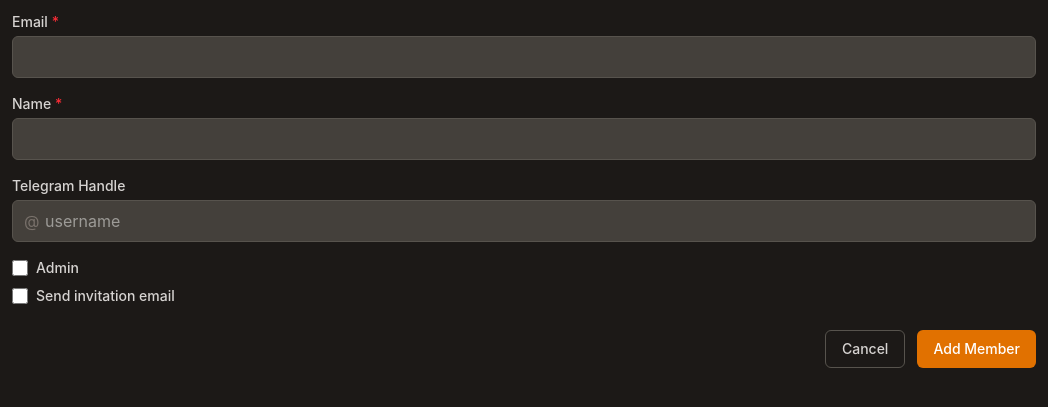
Test case: MemberForm › create mode › validates email format
In the field labelled "Email *": (524, 57) [12,36,1036,78], type "not-an-email"
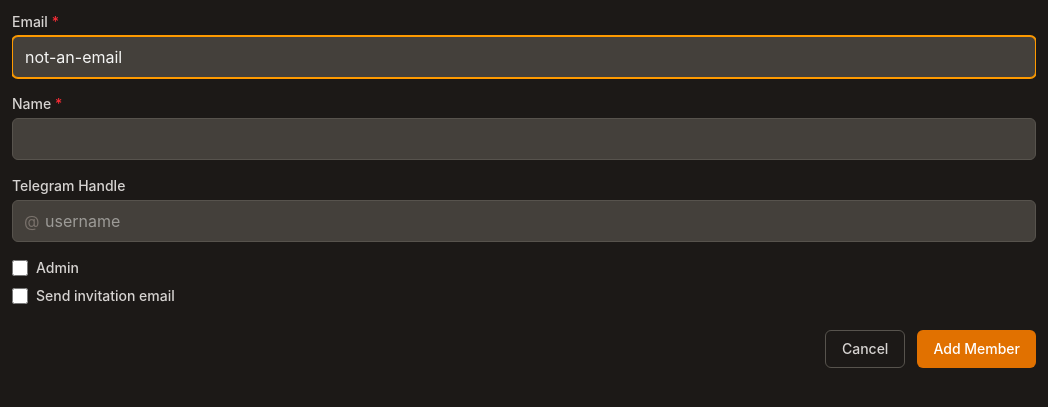
In the field labelled "Name *": (524, 139) [12,118,1036,160], type "Jane"
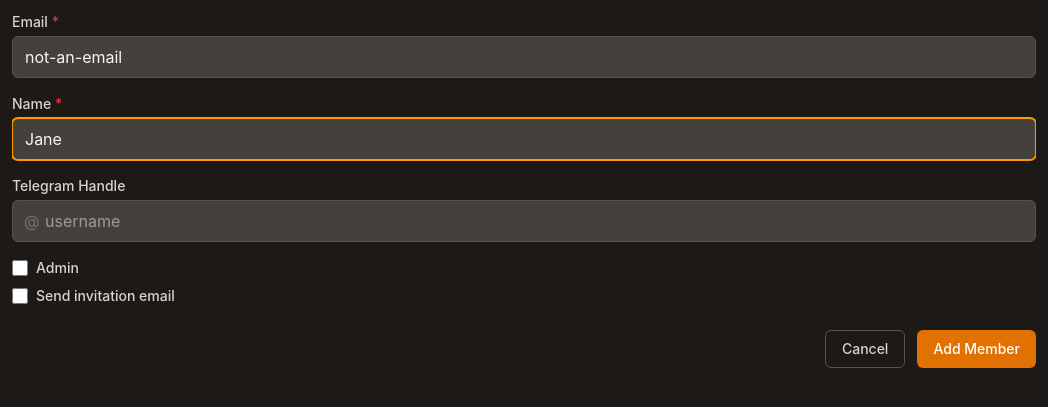
Click the button "Add Member": (977, 349) [917,330,1036,368]
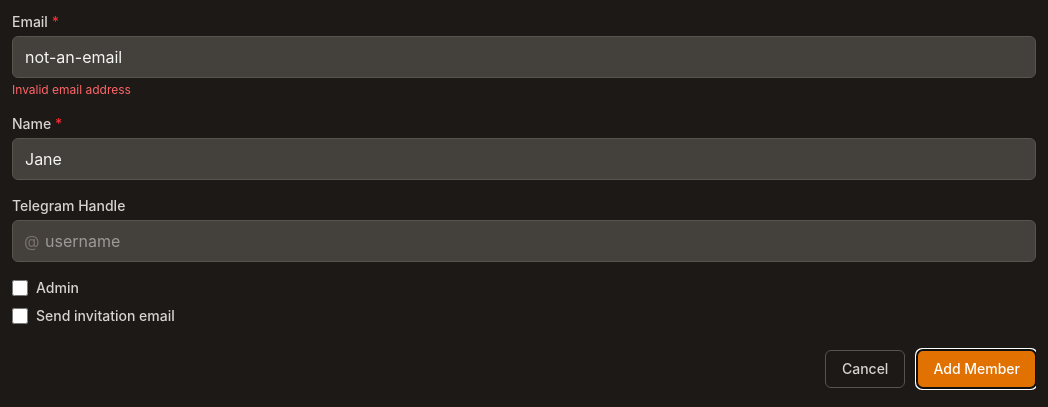
Check: the text "Invalid email address" is shown, box [12,82,131,97]
